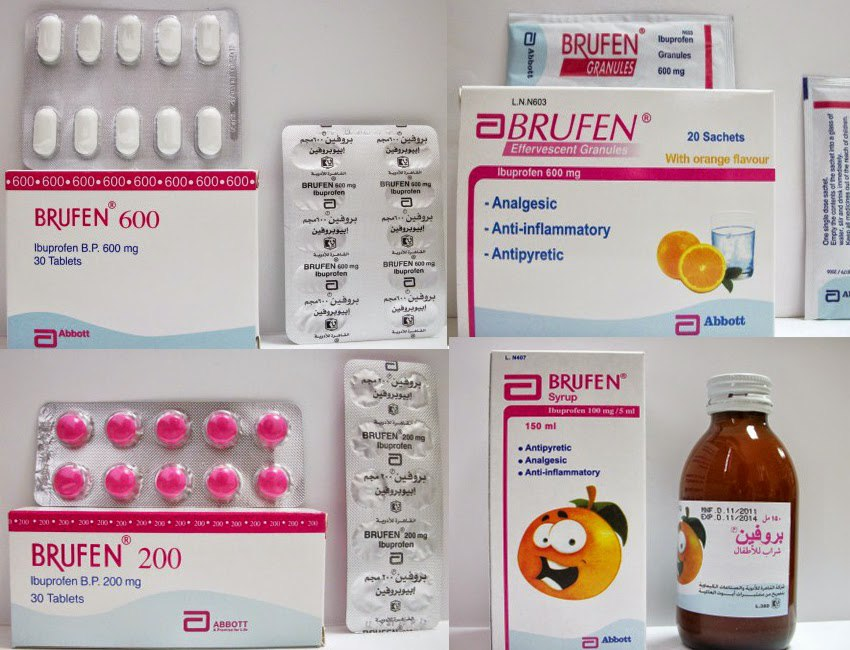Medicine: (453, 75, 782, 340), (478, 348, 650, 650), (7, 495, 337, 645), (0, 163, 268, 347), (282, 118, 452, 345), (333, 355, 457, 640), (678, 367, 797, 650), (497, 15, 738, 88), (802, 68, 850, 320)
